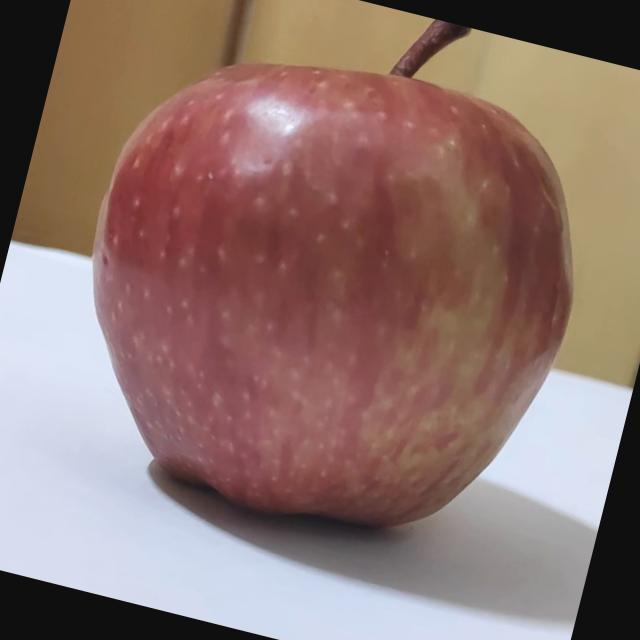apple: (39, 0, 638, 586)
